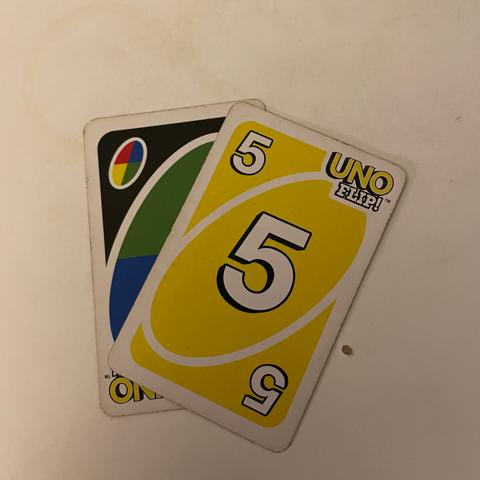lcolor-40: (95, 128, 149, 190)
lyellow-5: (227, 126, 279, 188)
